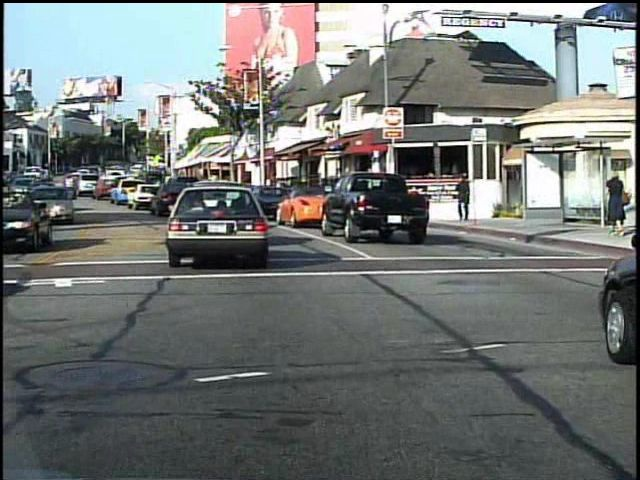person: (599, 165, 628, 238), (452, 177, 469, 230)
